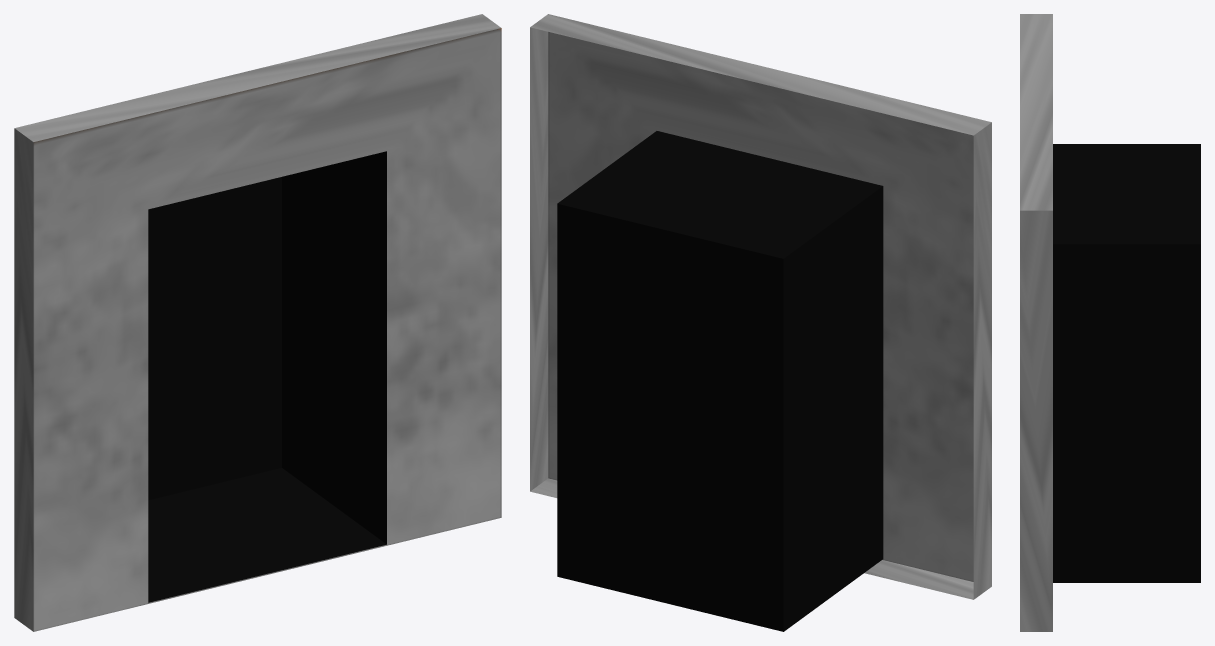
File: ParedeEscritorioPassagem.fbx
The picture shows the model from 3 angles, left to right: view 1: azimuth 30°, elevation 25°; view 2: azimuth 150°, elevation 25°; view 3: azimuth 270°, elevation 25°; orthographic projection. The views are drawn at different scales.
Parts seen in each view (by area): view 1: ParedeEscritorioPassagem; view 2: ParedeEscritorioPassagem; view 3: ParedeEscritorioPassagem.
Part boxes in pixels (x1,y1,x2,y2): ParedeEscritorioPassagem: (14, 14, 501, 631); ParedeEscritorioPassagem: (530, 14, 991, 631); ParedeEscritorioPassagem: (1020, 14, 1200, 631).
Size of the model in its own units: 308 by 308 by 120.
